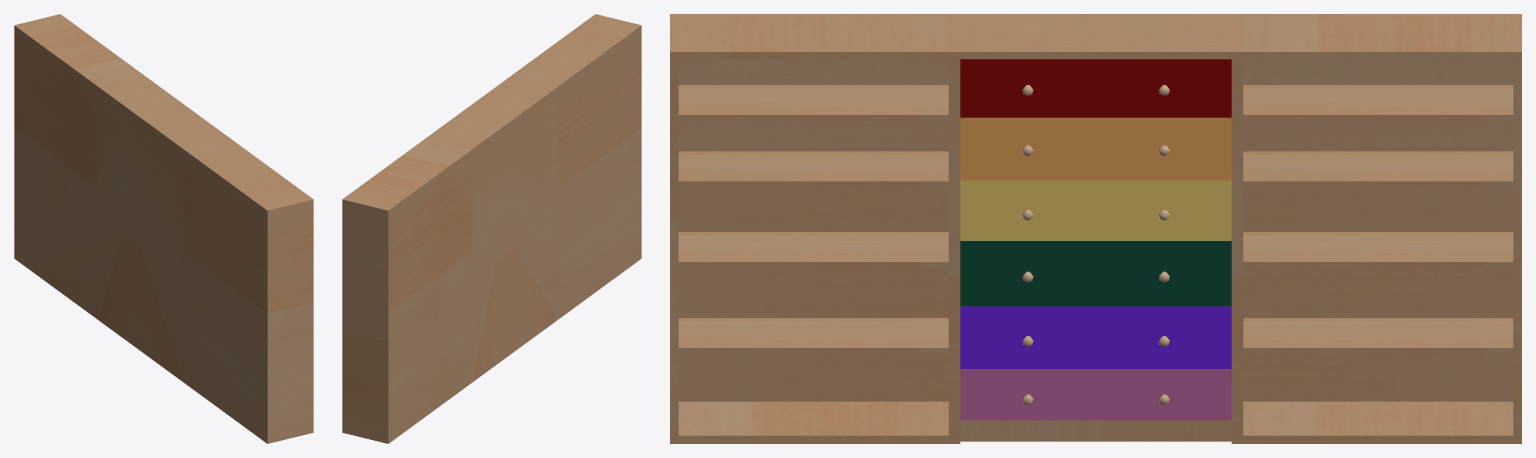
File: toy_cabinet.fbx
3 views of the same model, side by side, from view 1: azimuth 30°, elevation 25°; view 2: azimuth 150°, elevation 25°; view 3: azimuth 270°, elevation 25° (orthographic). The views are drawn at different scales.
Parts seen in each view (by area): view 1: toy_cabinet; view 2: toy_cabinet; view 3: toy_cabinet.
Part boxes in pixels (left/top/right/bottom): toy_cabinet: left=14, top=14, right=313, bottom=443; toy_cabinet: left=342, top=14, right=641, bottom=443; toy_cabinet: left=670, top=14, right=1521, bottom=443.
Bounding box in the file's own units: 41.17 × 191 × 377.
8 materials, 1 textured.
